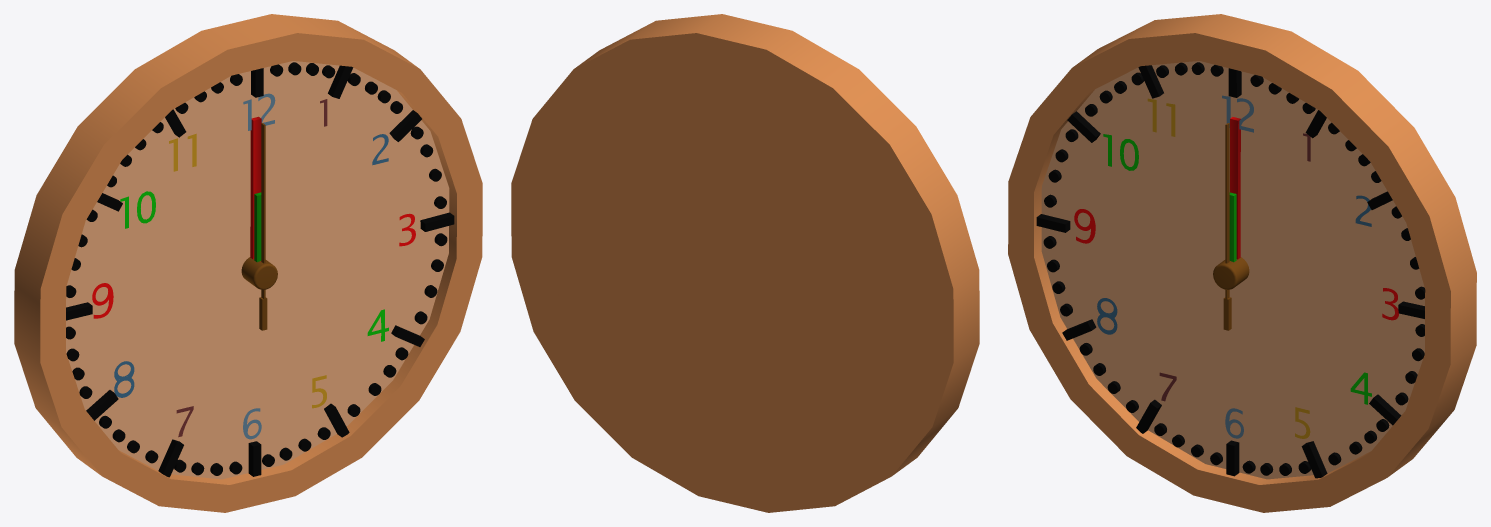
The model's file is SM_Horloge.fbx.
3 renders of one model, left to right at view 1: azimuth 30°, elevation 25°; view 2: azimuth 150°, elevation 25°; view 3: azimuth 330°, elevation 25°, orthographic.
Parts seen in each view (by area): view 1: Horloge_Body, Aiguille_minutes, Aiguille_secondes, Aiguille_heures; view 2: Horloge_Body; view 3: Horloge_Body, Aiguille_minutes, Aiguille_secondes, Aiguille_heures.
Boxes of the visible parts, box(x1,y1,x2,y2) form: Horloge_Body: box(14, 14, 482, 512); Aiguille_minutes: box(250, 116, 261, 259); Aiguille_secondes: box(259, 123, 267, 330); Aiguille_heures: box(254, 192, 261, 262); Horloge_Body: box(511, 14, 979, 512); Horloge_Body: box(1008, 14, 1476, 512); Aiguille_minutes: box(1230, 117, 1240, 259); Aiguille_secondes: box(1223, 123, 1231, 330); Aiguille_heures: box(1229, 192, 1236, 262).
Size of the model in its own units: 84.23 by 84.23 by 10.25.
